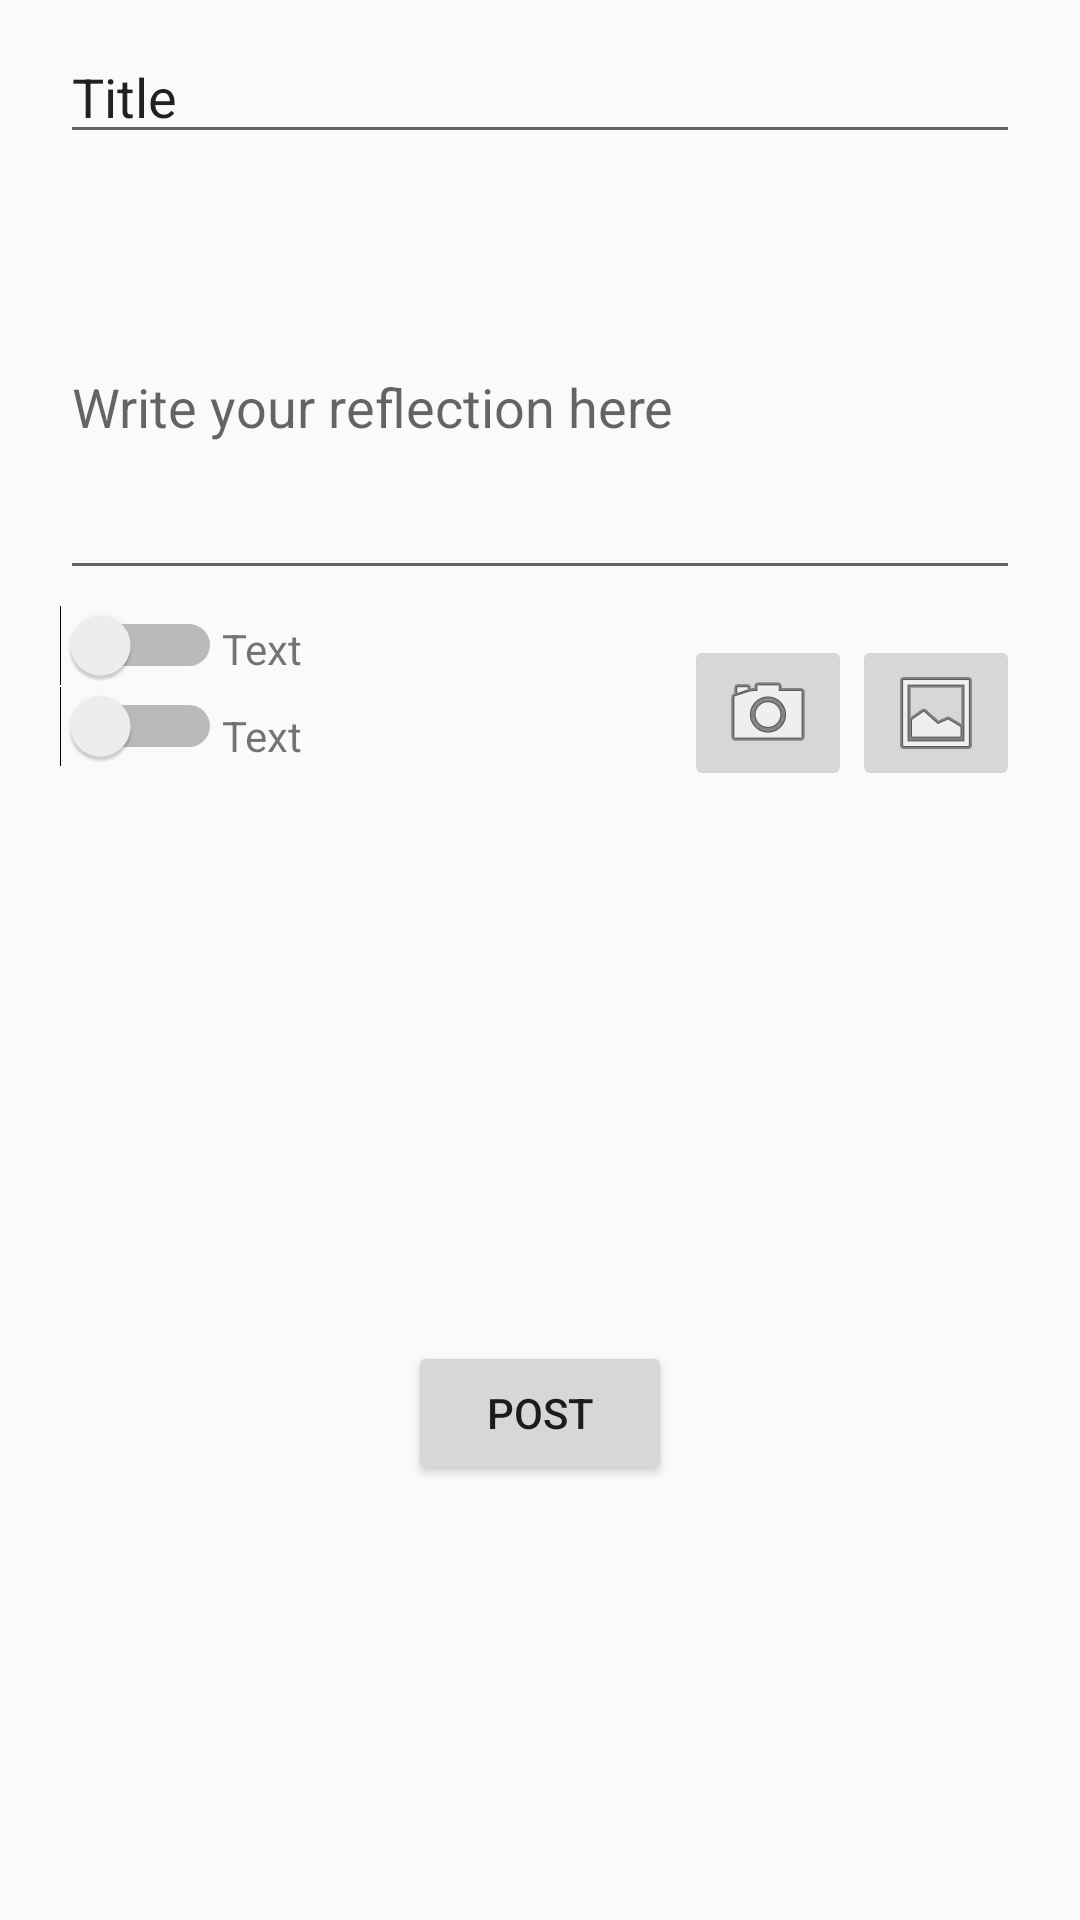

Icons on this 1080*1920 Android screen, each with its box as bbox=(x1, y1, x2, y2):
camera: bbox=(696, 653, 840, 773)
gallery: bbox=(864, 653, 1008, 773)
